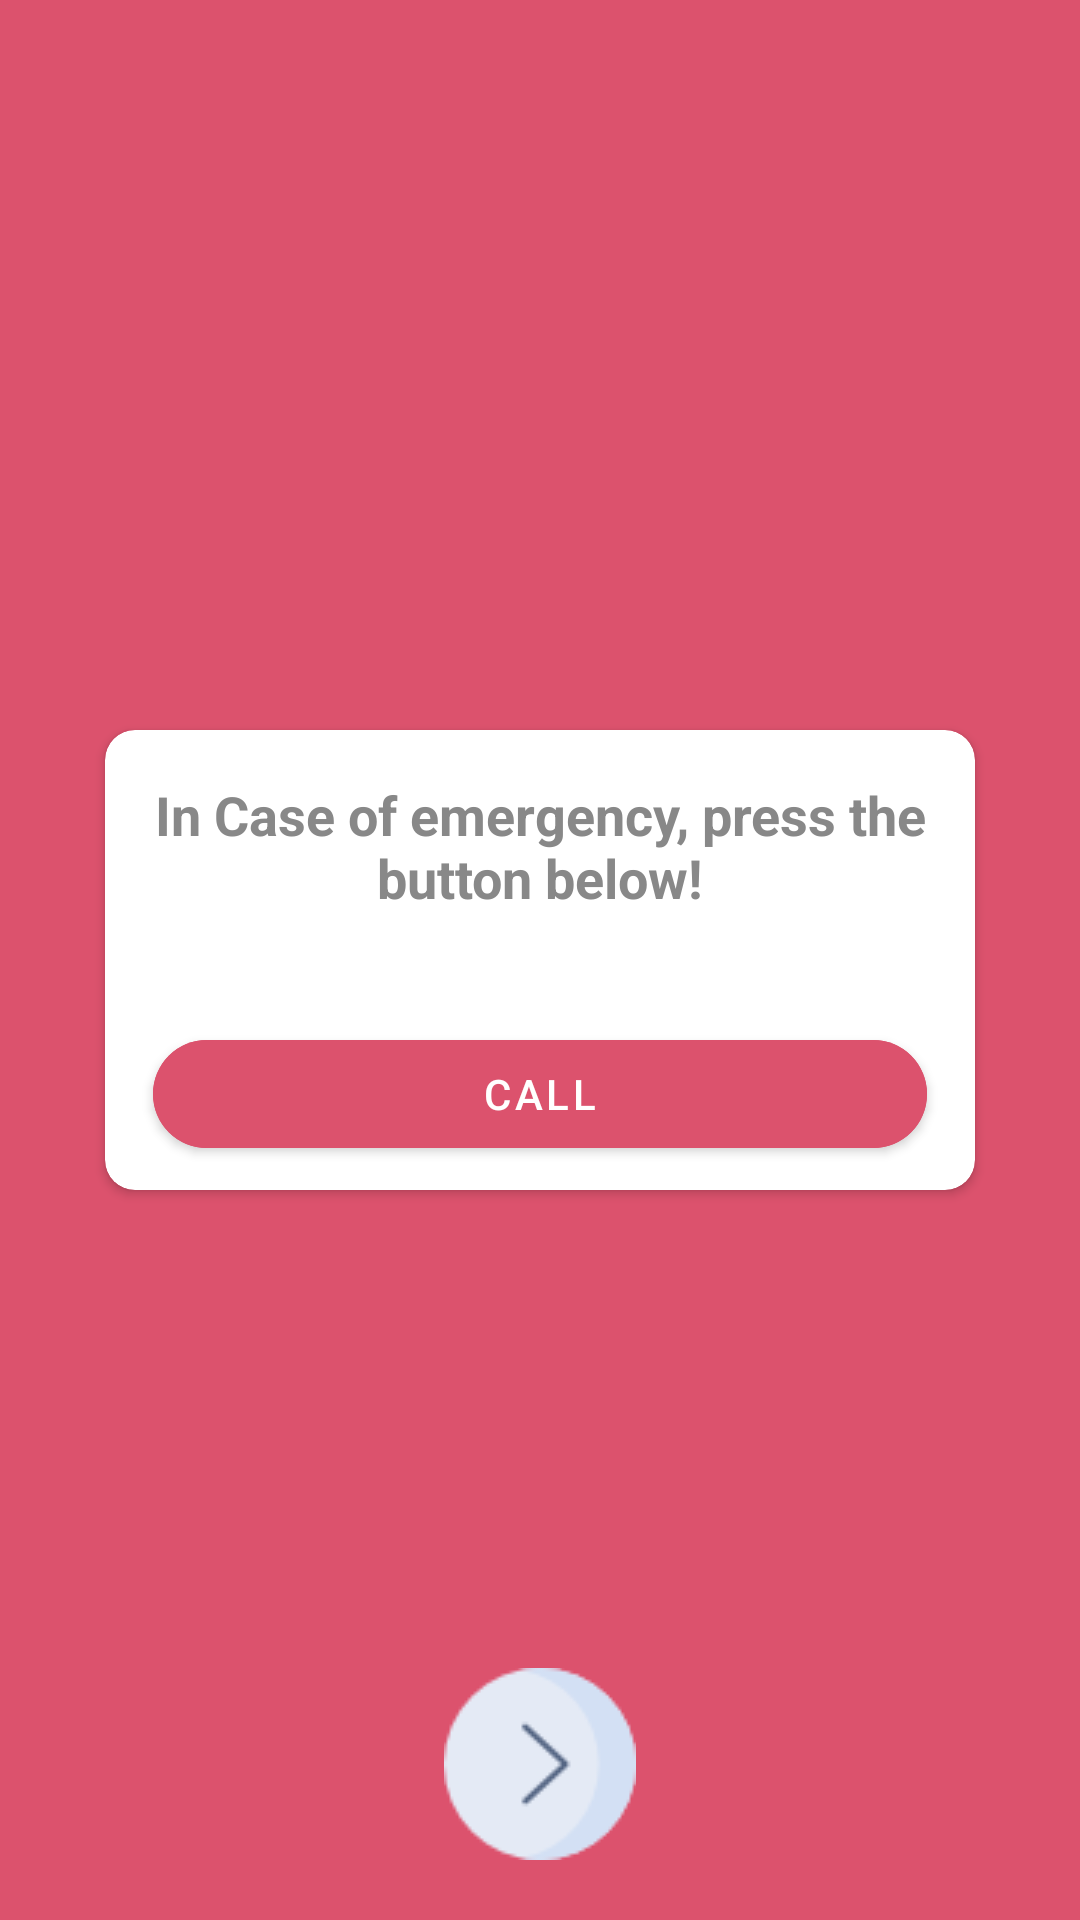

Screen size 1080×1920. Icon name, then its box in pixels as (x1, y1, x2, y2):
next: (444, 1668, 636, 1860)
